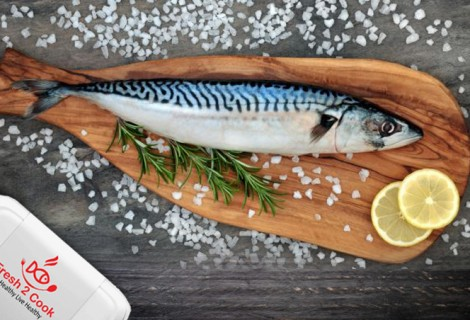Mackerel: (8, 76, 425, 158)
